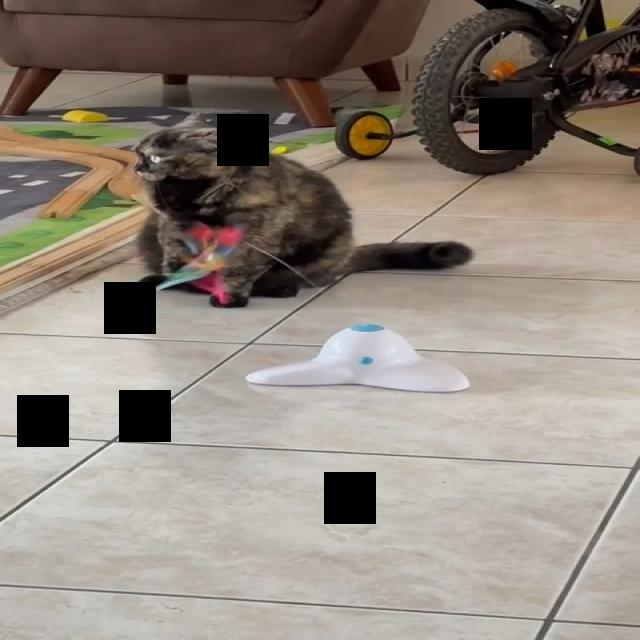authorized: (130, 111, 474, 308)
